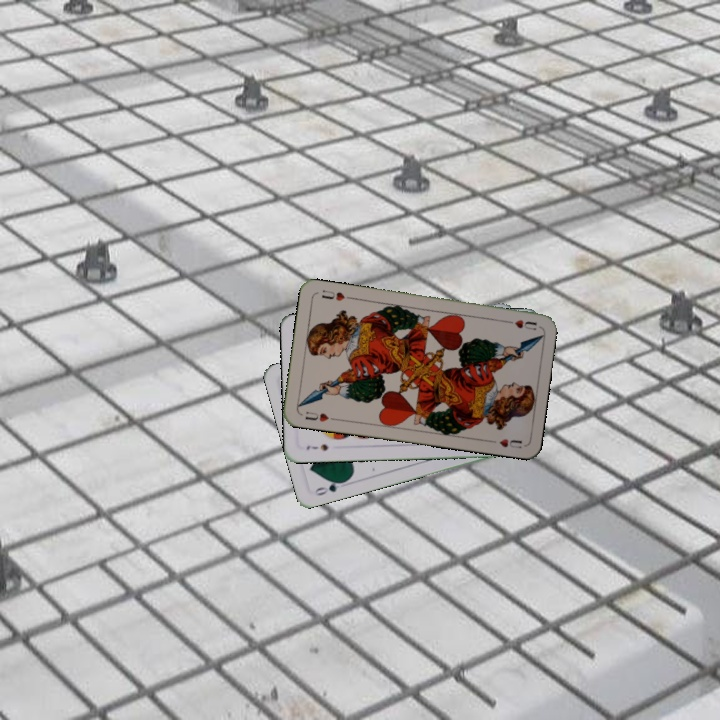GO: (311, 476, 349, 498)
HU: (501, 315, 539, 333), (301, 407, 338, 424)
S7: (302, 440, 331, 453)
